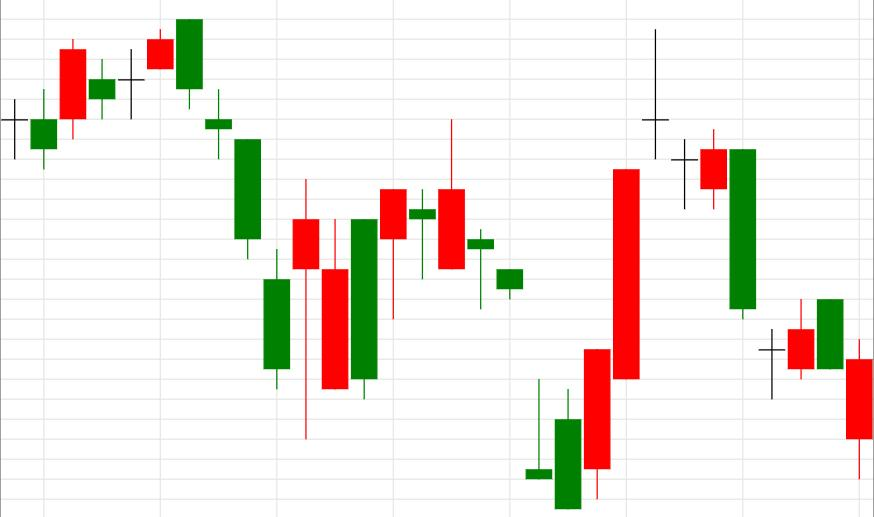bearish_engulfing_fall: (30, 20, 204, 170)
